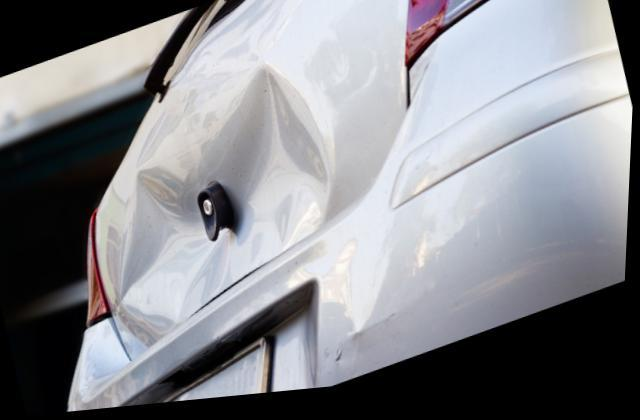dent: (124, 72, 333, 326)
